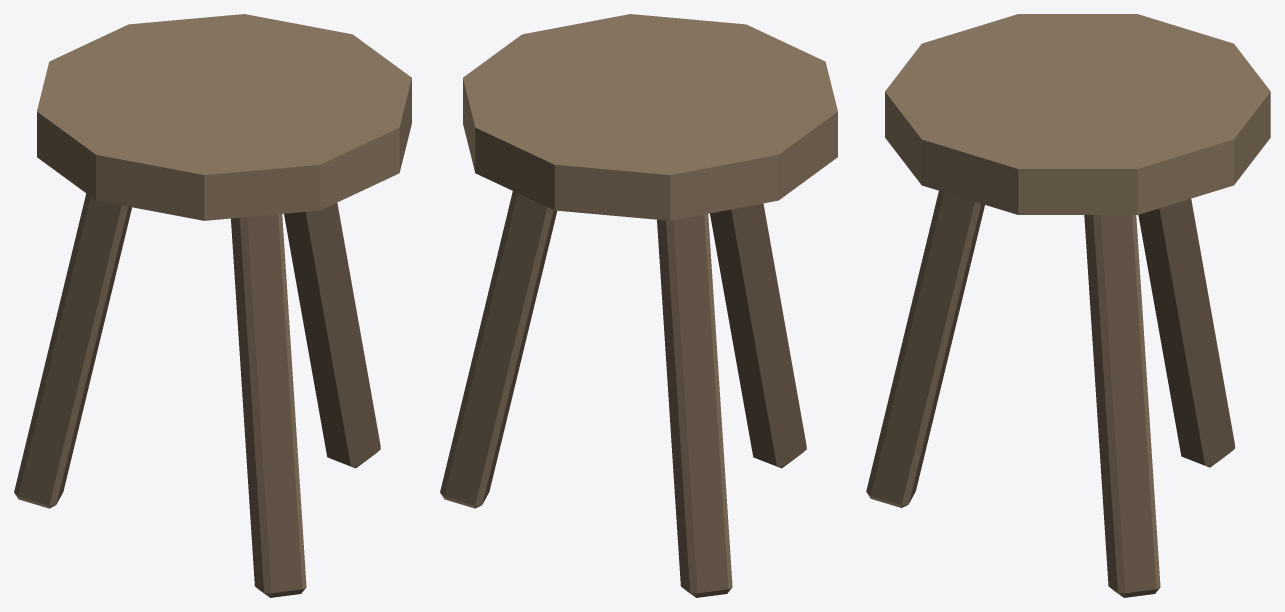
The model's file is stool.glb.
3 renders of one model, left to right at view 1: azimuth 30°, elevation 25°; view 2: azimuth 150°, elevation 25°; view 3: azimuth 270°, elevation 25°, orthographic.
Parts seen in each view (by area): view 1: Stool; view 2: Stool; view 3: Stool.
Part boxes in pixels (box(x1,y1,x2,y2)): Stool: box(14, 14, 411, 597); Stool: box(440, 14, 837, 597); Stool: box(866, 14, 1270, 597).
Bounding box in the file's own units: 0.3862 × 0.4634 × 0.3985.
